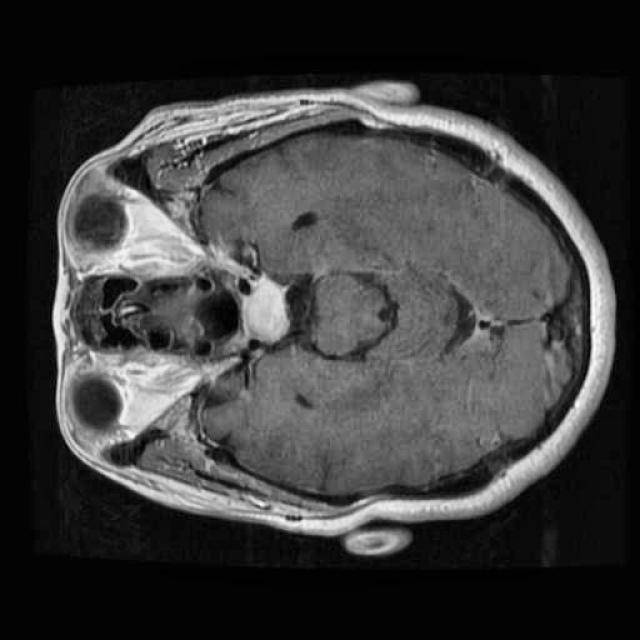Tumor: (236, 268, 294, 349)
